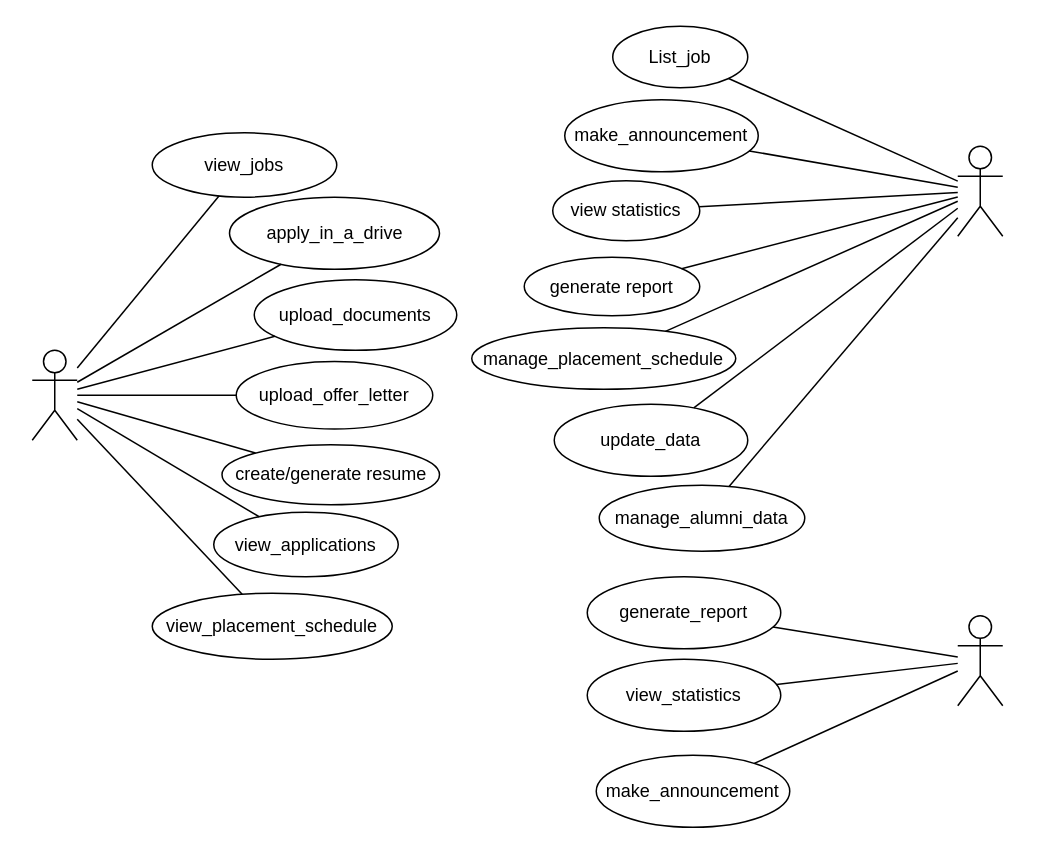
Some shapes in this 1046 by 854 pixel diagram are drawn without their labels. The centre of each missing label's shape, as x and y in pixels:
"Chairman" belongs at point (979, 660).
"student" belongs at point (54, 394).
"TPO" belongs at point (979, 190).
